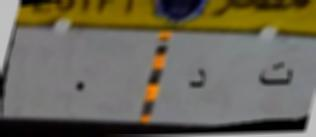0: (72, 72, 89, 100)
daal: (185, 65, 210, 93)
taa: (255, 56, 297, 93)
